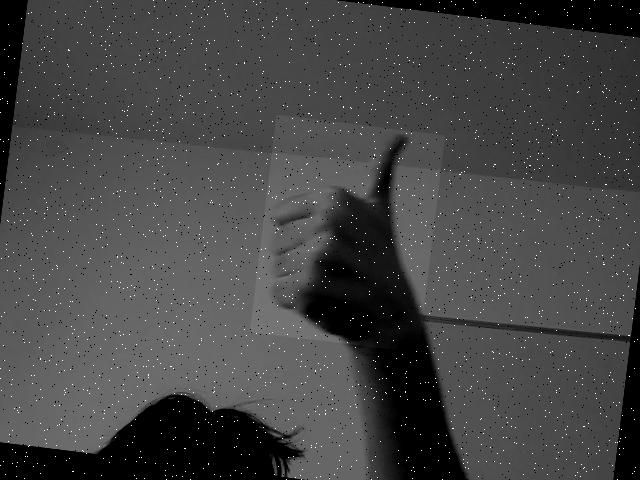good: (265, 128, 422, 344)
